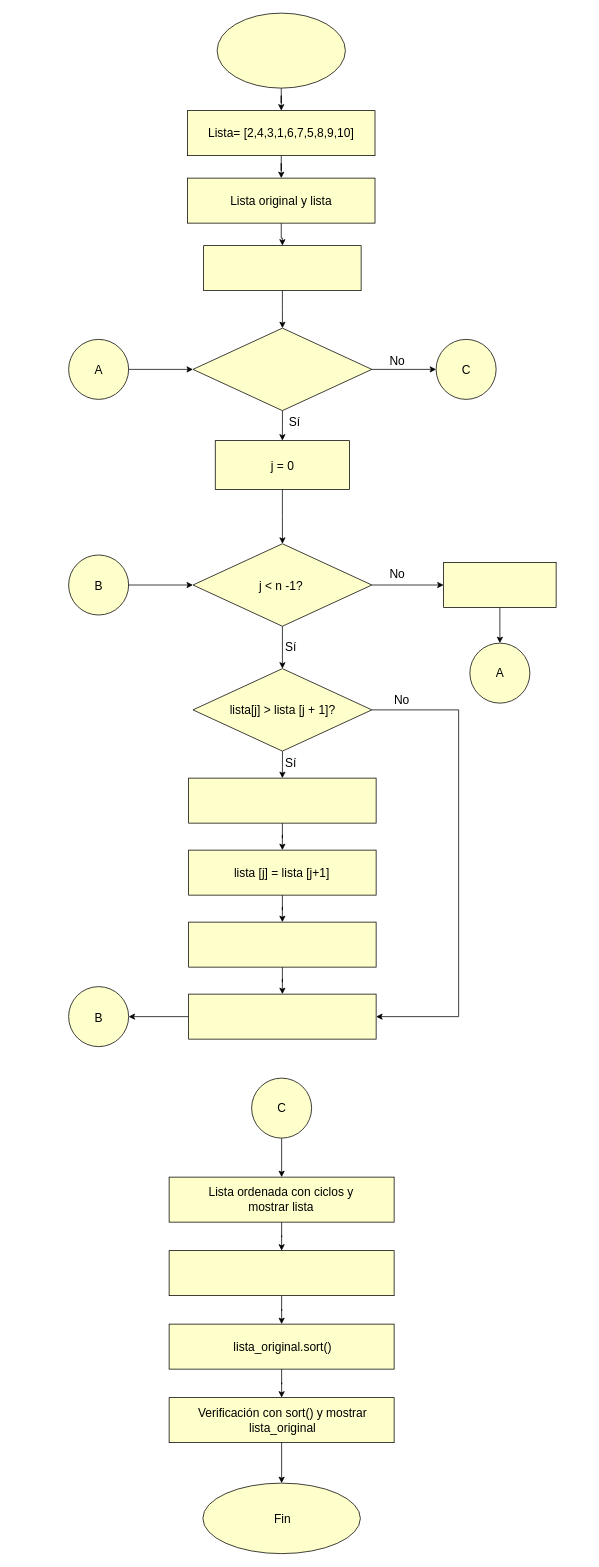
The diagram is 599 pixels wide and 1567 high, and some of its shapes have lost their labels. The centre of each missing label's shape, as x and y in pixels:
aux = lista [j]: point 282,800
i < n?: point 282,369
i = i + 1: point 499,585
Inicio: point 280,50
j = j + 1: point 282,1016
lista [j+1] = aux: point 282,944
lista_original= [2,4,3,1,6,7,5,8,9,10]: point 281,1273
n= len(lista), i= 0: point 282,268
